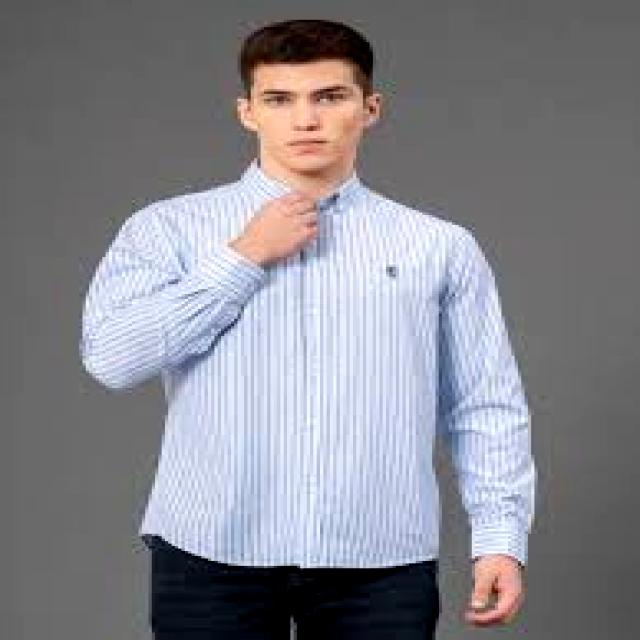face: (238, 60, 382, 175)
lower-wear: (149, 537, 438, 639)
top-wear: (80, 159, 537, 568)
